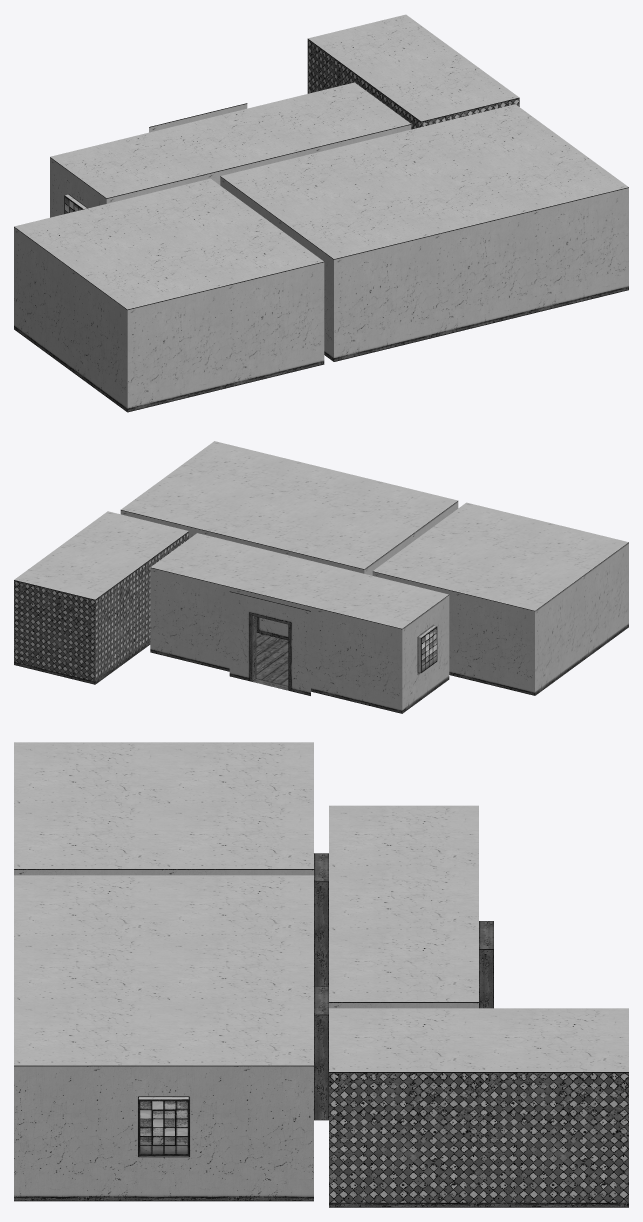
The model's file is House_01.fbx.
The picture shows the model from 3 angles, top to bottom: view 1: azimuth 30°, elevation 25°; view 2: azimuth 150°, elevation 25°; view 3: azimuth 270°, elevation 25°; orthographic projection. The views are drawn at different scales.
Parts seen in each view (by area): view 1: Mieszkanie; view 2: Mieszkanie; view 3: Mieszkanie.
Part boxes in pixels (left/top/right/bottom): Mieszkanie: left=14, top=14, right=628, bottom=412; Mieszkanie: left=14, top=441, right=628, bottom=713; Mieszkanie: left=14, top=742, right=628, bottom=1207.
Bounding box in the file's own units: 1560 × 300 × 1230.
9 materials, 9 textured.
